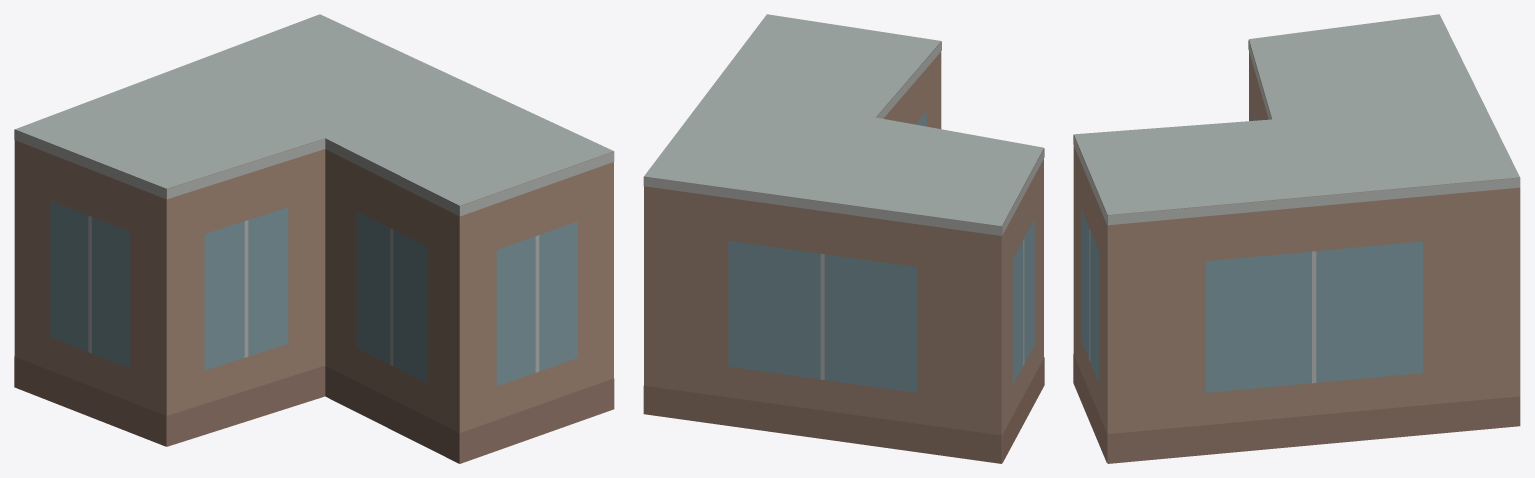
File: survey-upis-32967337.glb
3 views of the same model, side by side, from view 1: azimuth 30°, elevation 25°; view 2: azimuth 150°, elevation 25°; view 3: azimuth 270°, elevation 25° (orthographic). The views are drawn at different scales.
Visible parts, largest first — view 1: survey-upis-32967337.tmp; view 2: survey-upis-32967337.tmp; view 3: survey-upis-32967337.tmp.
Boxes of the visible parts, bbox=[...] form: survey-upis-32967337.tmp: bbox=[14, 14, 614, 463]; survey-upis-32967337.tmp: bbox=[643, 14, 1044, 463]; survey-upis-32967337.tmp: bbox=[1073, 14, 1520, 463].
Size of the model in its own units: 5.3 by 3.05 by 4.98.
